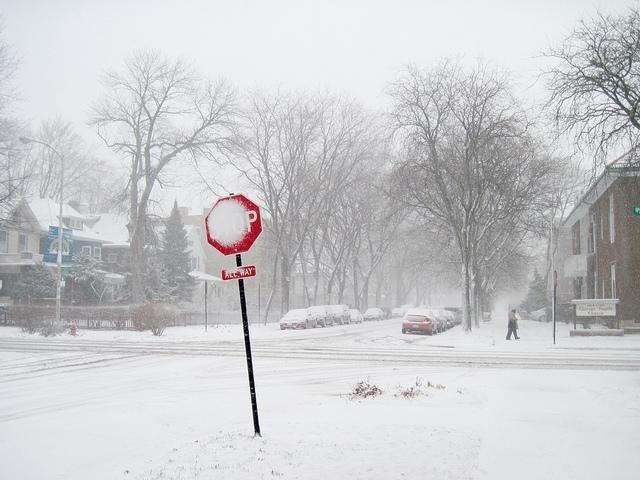car: (401, 308, 438, 334), (278, 310, 318, 330), (423, 310, 448, 333), (308, 307, 334, 328), (332, 304, 352, 326), (444, 307, 462, 326), (440, 308, 453, 330), (349, 308, 364, 325), (364, 308, 383, 321), (392, 307, 406, 318), (379, 308, 392, 319)
